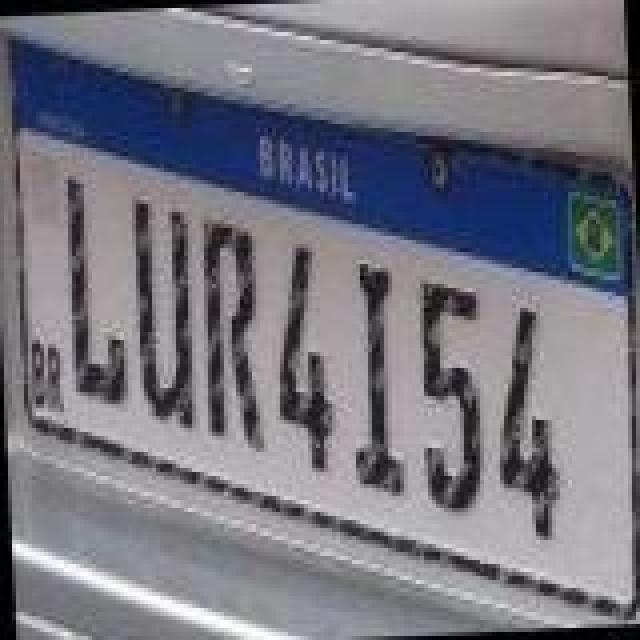4: (490, 296, 566, 544), (268, 240, 340, 480)
5: (408, 266, 488, 518)
I: (342, 250, 410, 502)
L: (62, 166, 130, 410)
R: (196, 212, 268, 460)
U: (130, 190, 198, 442)
